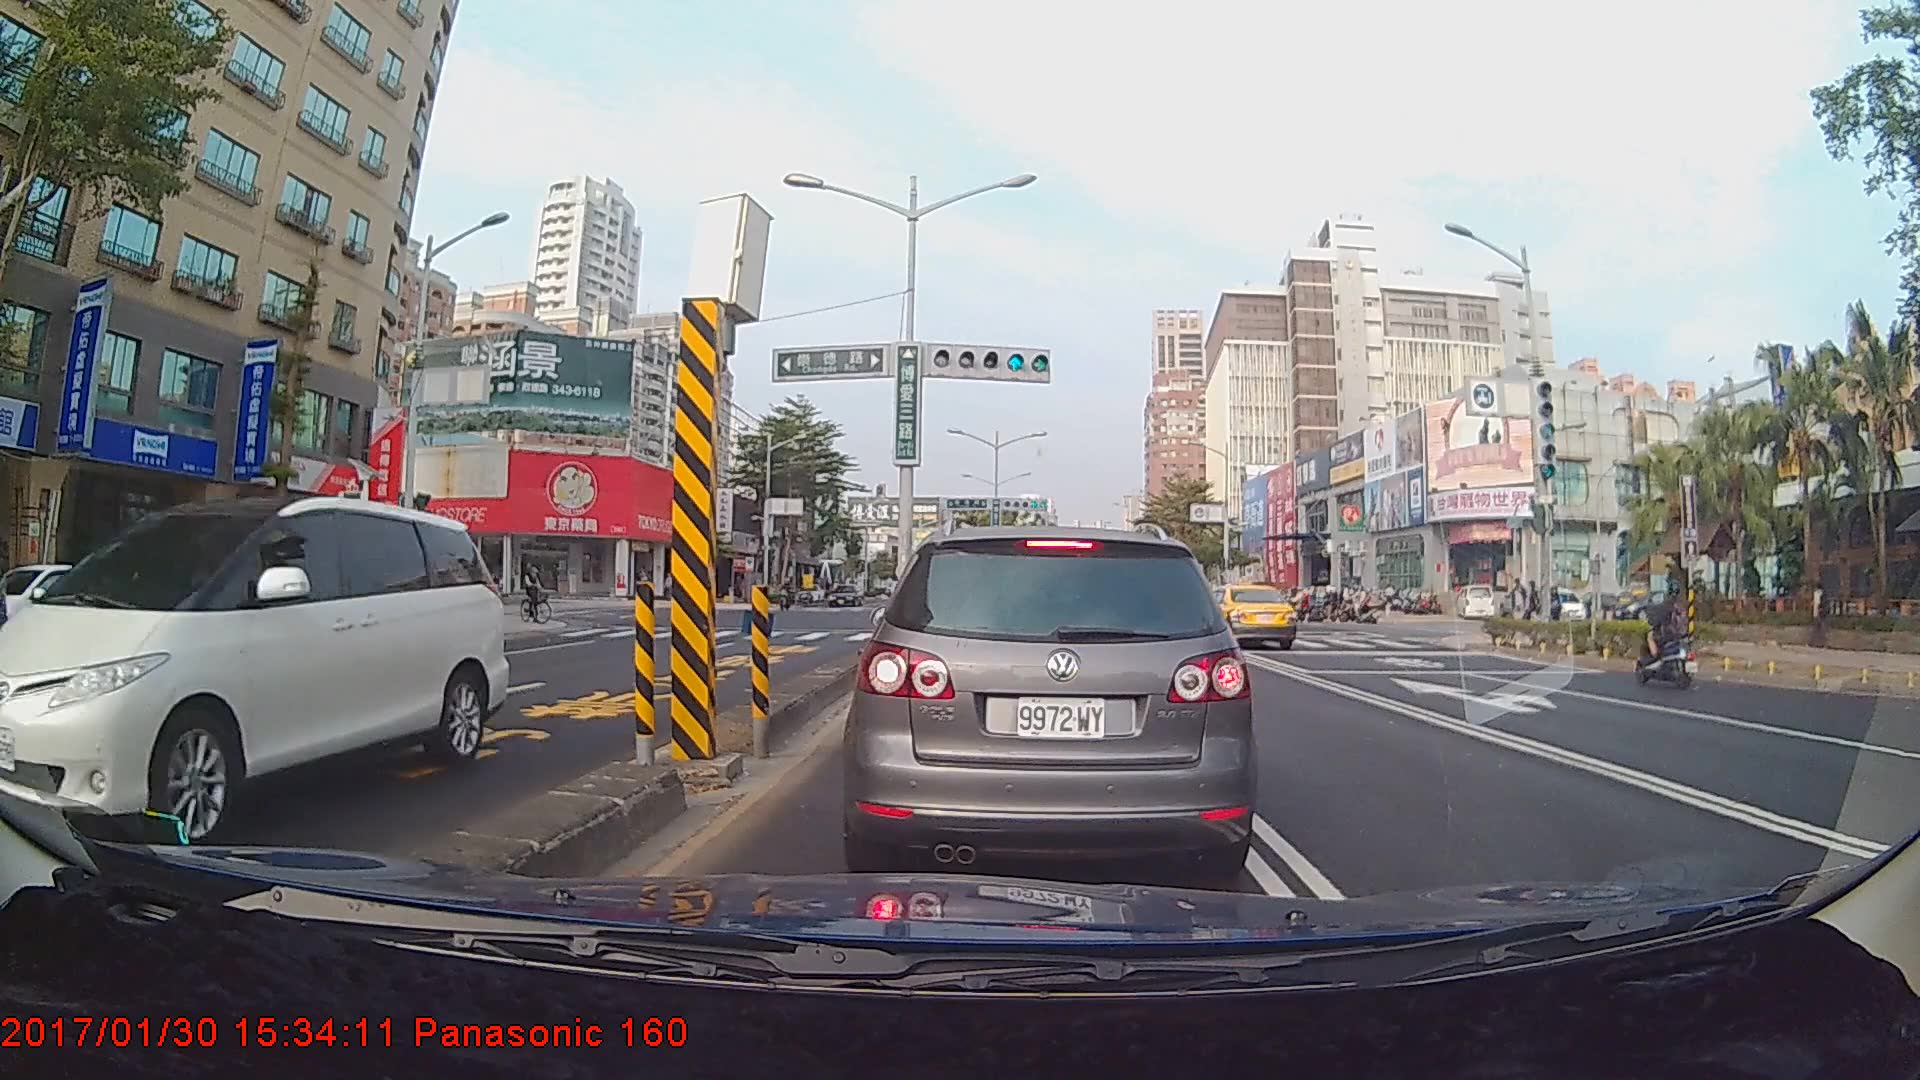pedestrian: (1807, 579, 1833, 648)
rider: (1632, 579, 1706, 693)
vehicle: (0, 498, 507, 849), (855, 519, 1248, 877), (1192, 581, 1298, 651)
